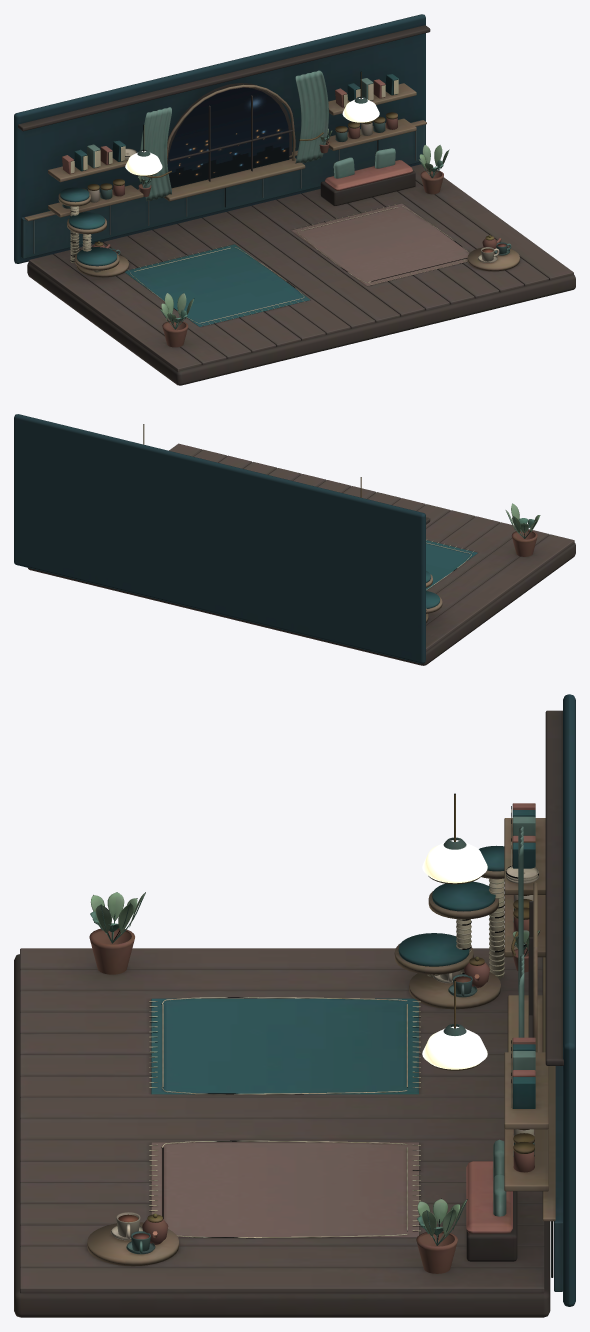
Rendered from cafe.glb.
3 views of the same model, one above another, from view 1: azimuth 30°, elevation 25°; view 2: azimuth 150°, elevation 25°; view 3: azimuth 270°, elevation 25° (orthographic). The views are drawn at different scales.
Parts seen in each view (by area): view 1: atelier-cafe-static, night-glass, atelier-cafe-lampPaper; view 2: atelier-cafe-static; view 3: atelier-cafe-static, atelier-cafe-lampPaper.
Part boxes in pixels (bbox=[...]): atelier-cafe-static: bbox=[14, 14, 575, 385]; night-glass: bbox=[167, 87, 289, 188]; atelier-cafe-lampPaper: bbox=[125, 98, 379, 175]; atelier-cafe-static: bbox=[14, 414, 575, 665]; atelier-cafe-static: bbox=[14, 694, 575, 1317]; atelier-cafe-lampPaper: bbox=[422, 840, 487, 1069].
Size of the model in its own units: 14 by 5.2 by 9.43.
Materials: 4 (2 with a texture image).
